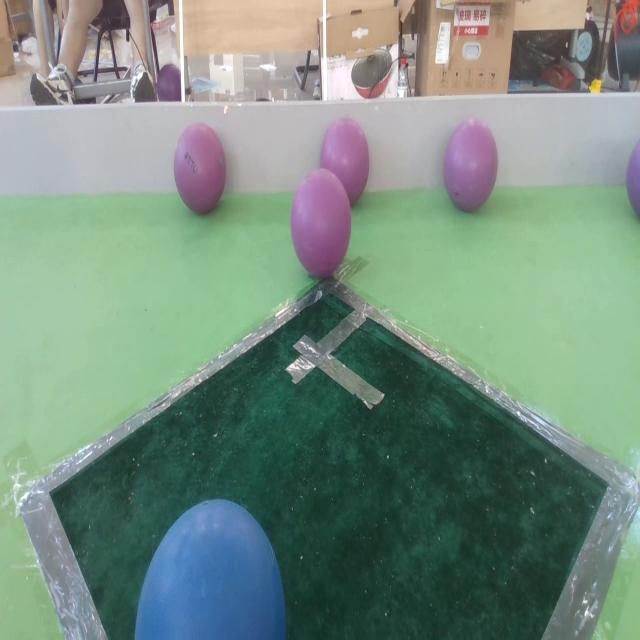blue: (136, 497, 286, 640)
invalid: (290, 170, 353, 279), (171, 122, 229, 216), (441, 122, 500, 213), (322, 117, 370, 203)
